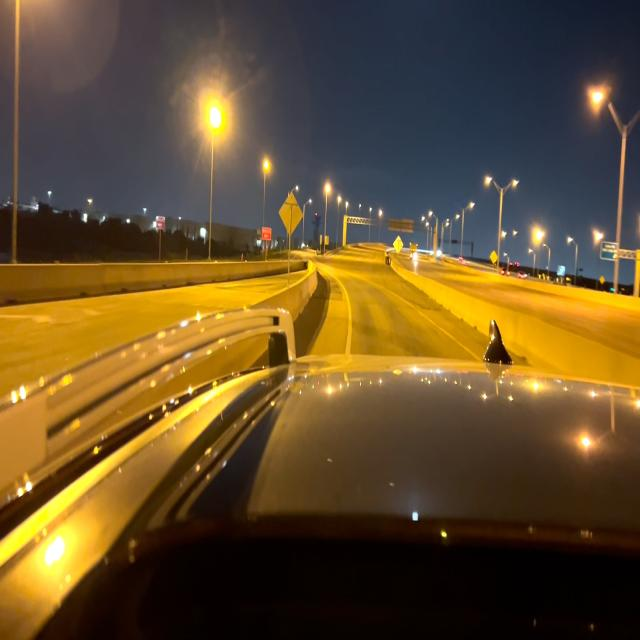back-of-sign: (279, 192, 305, 240)
